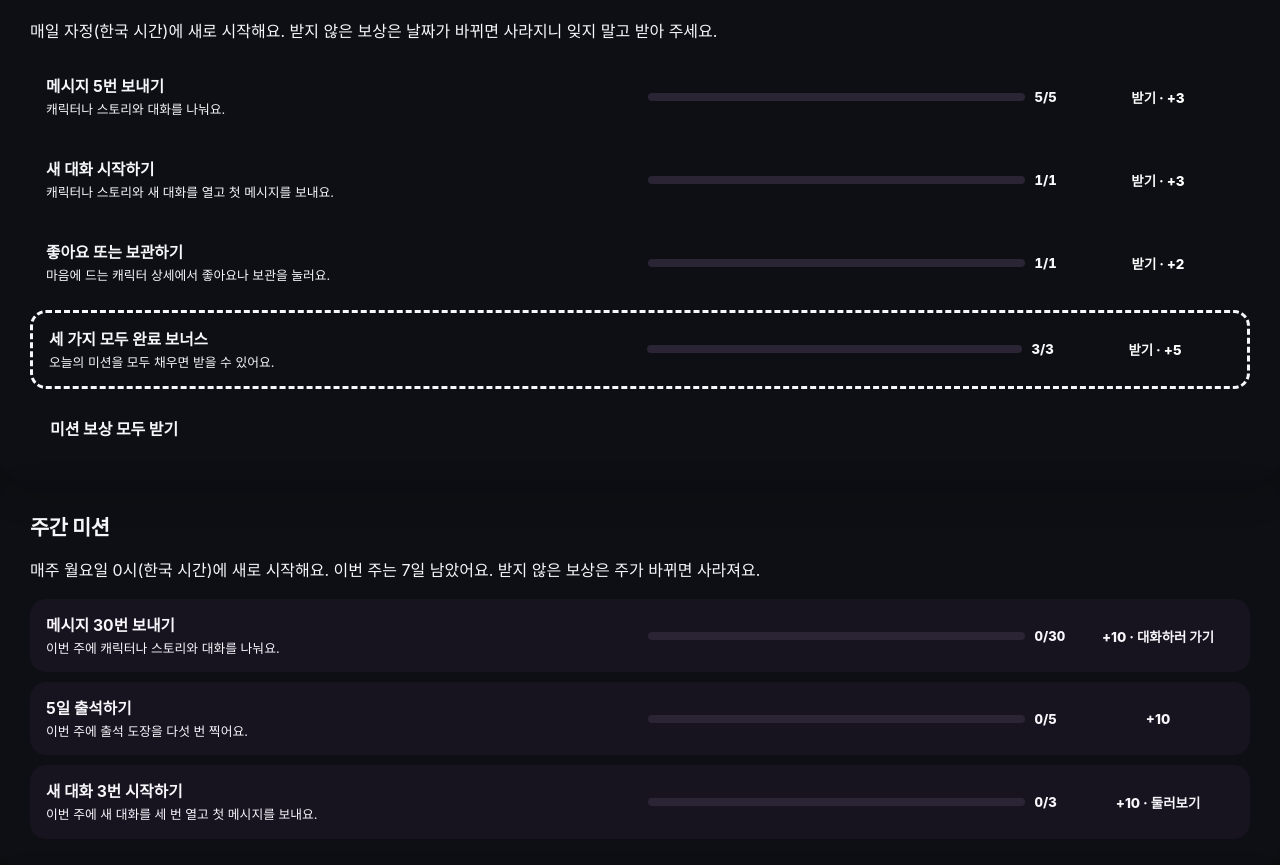
Scenario: 출석과 미션 화면 › 세 미션을 모두 채우면 모두 받기로 미션 보상과 보너스를 한 번에 받는다
The width and height of the screenshot is (1280, 865).
(page scrolled)
Click the button "미션 보상 모두 받기" at (114, 428), box [30,405,198,451]
(page scrolled)
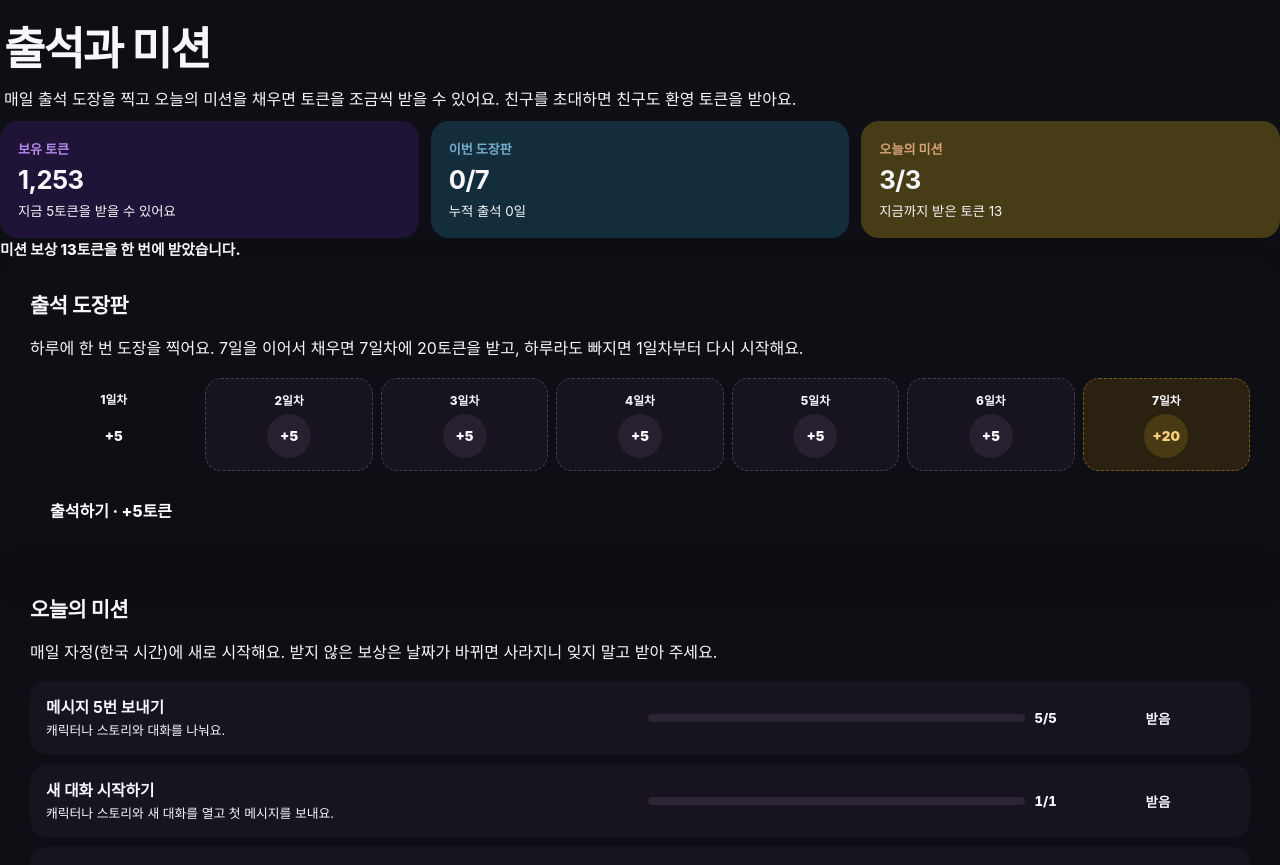
Now the text "미션 보상 13토큰을 한 번에 받았습니다." is shown, box [0,241,241,259]
Now the text "받음" is shown 4 times
